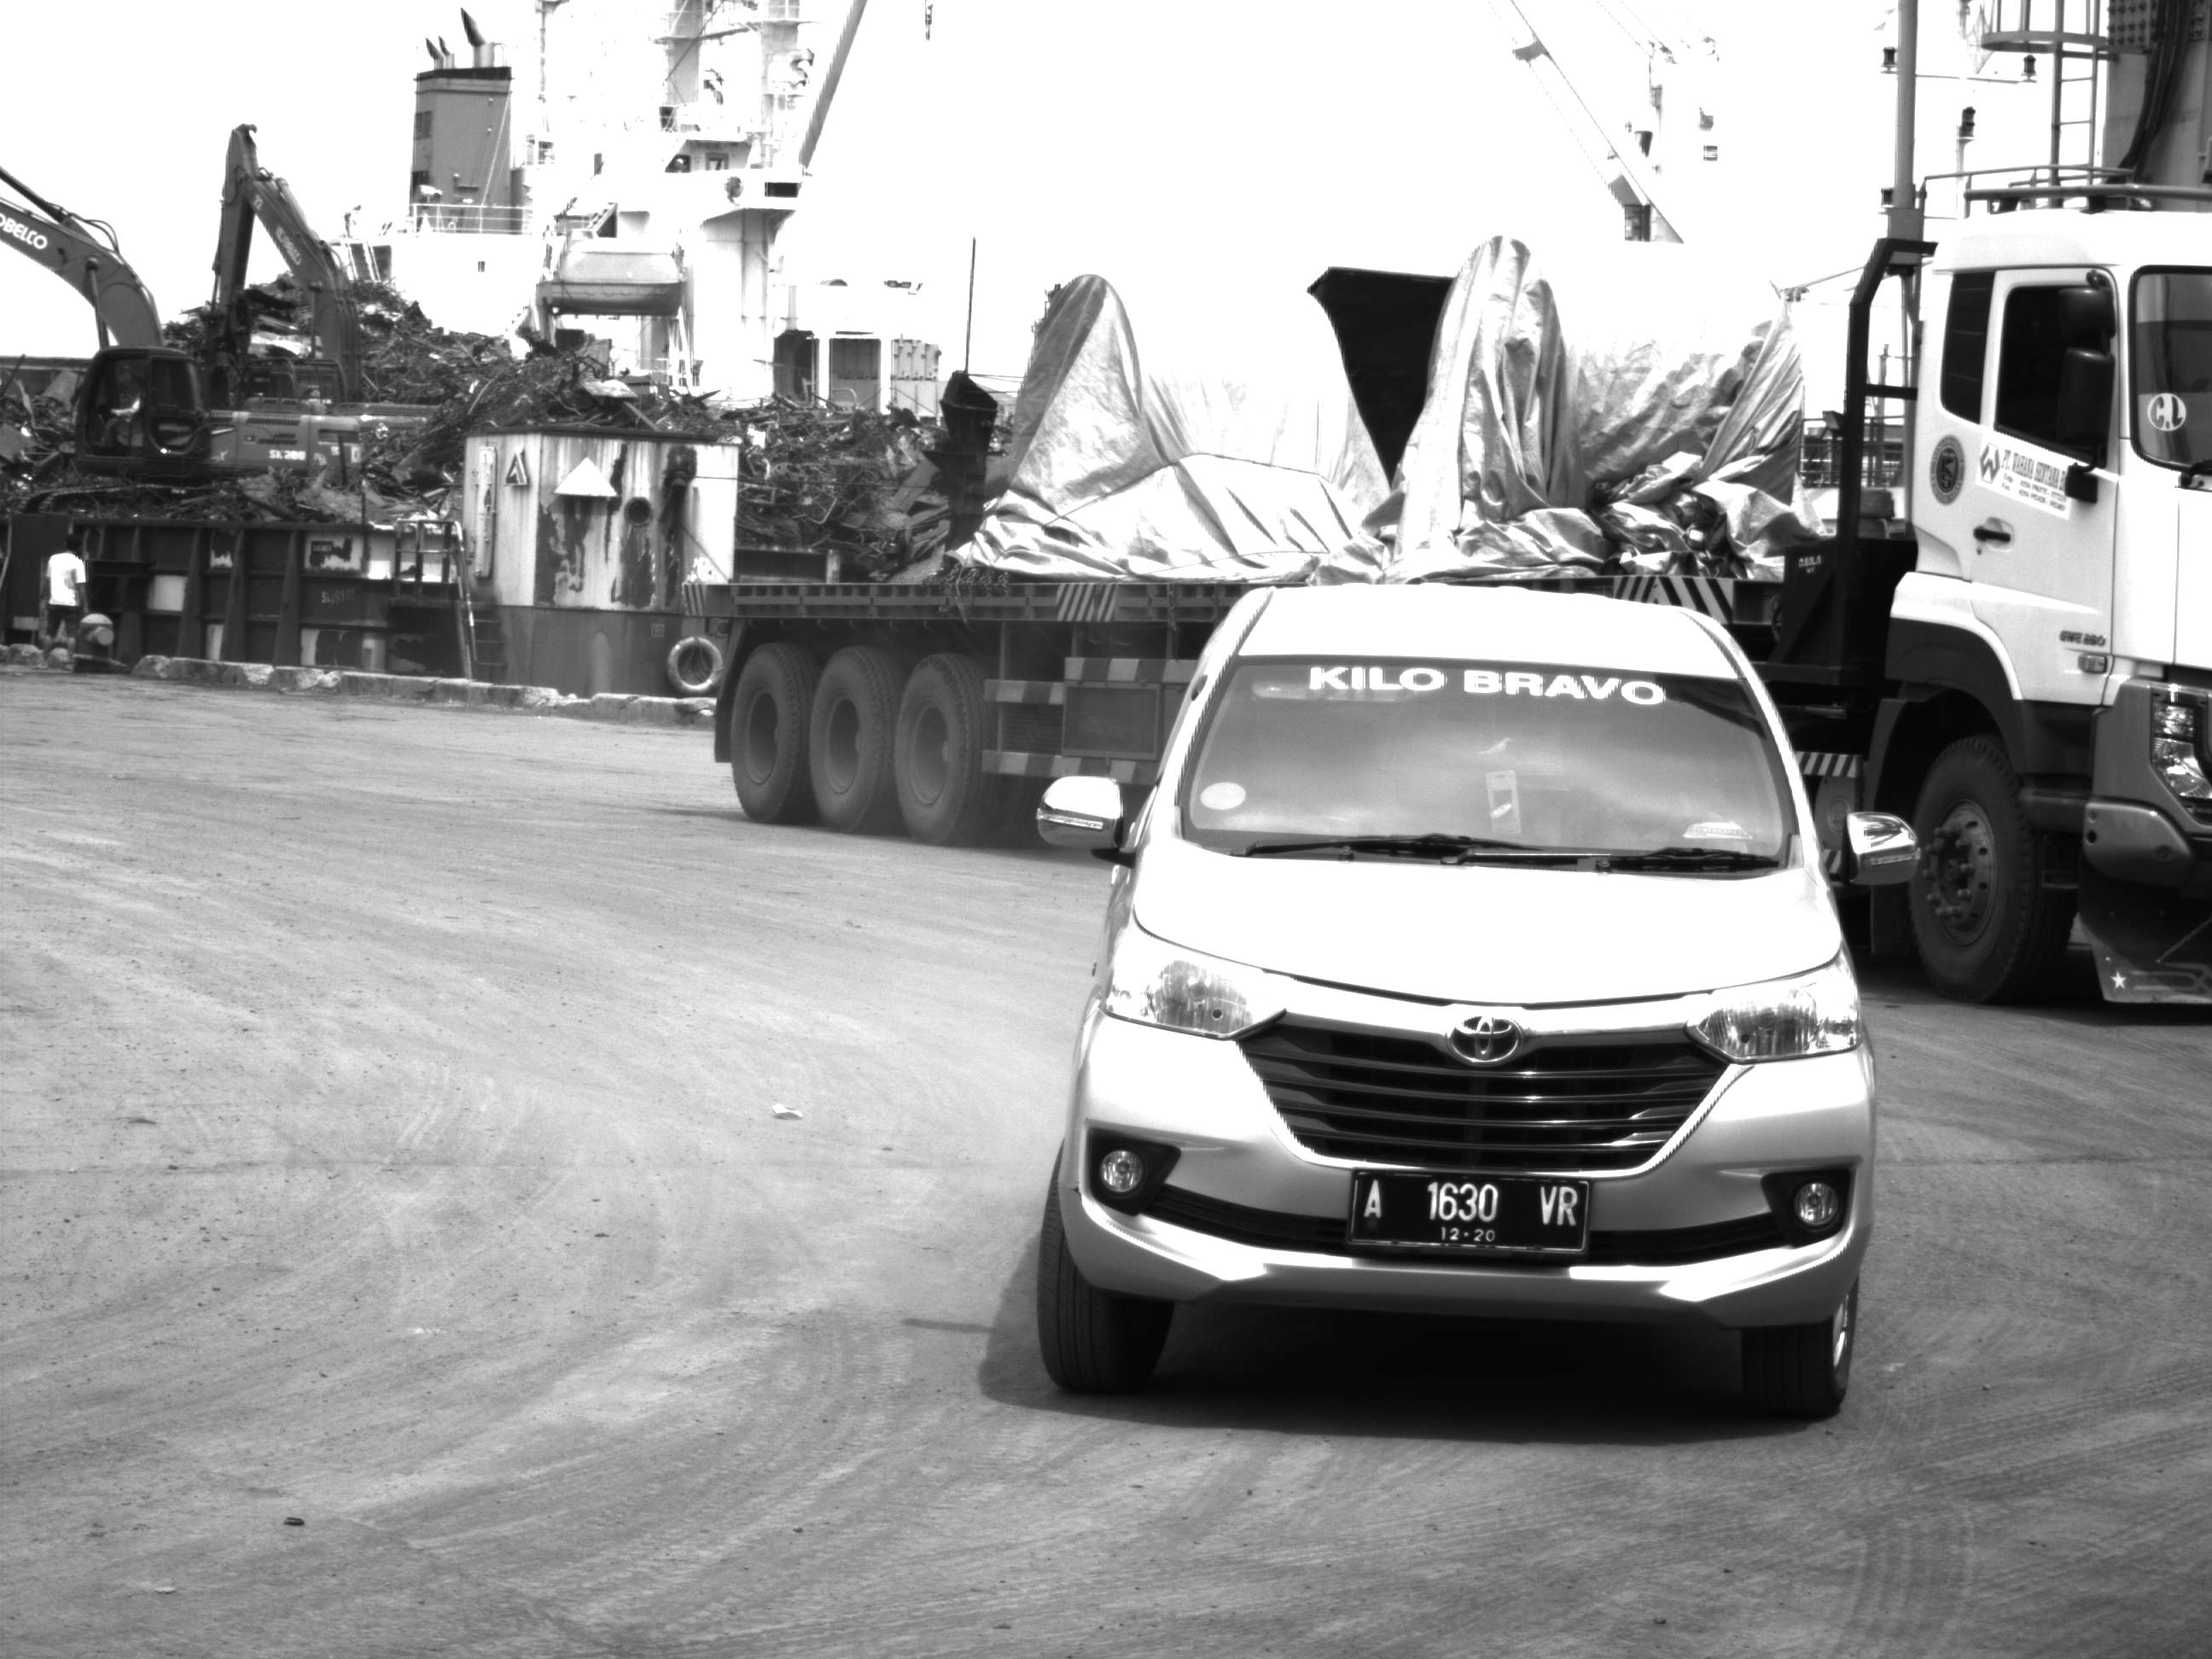car: (1029, 586, 1890, 1446)
truck_side: (657, 551, 2209, 1006), (1904, 169, 2205, 1016)
